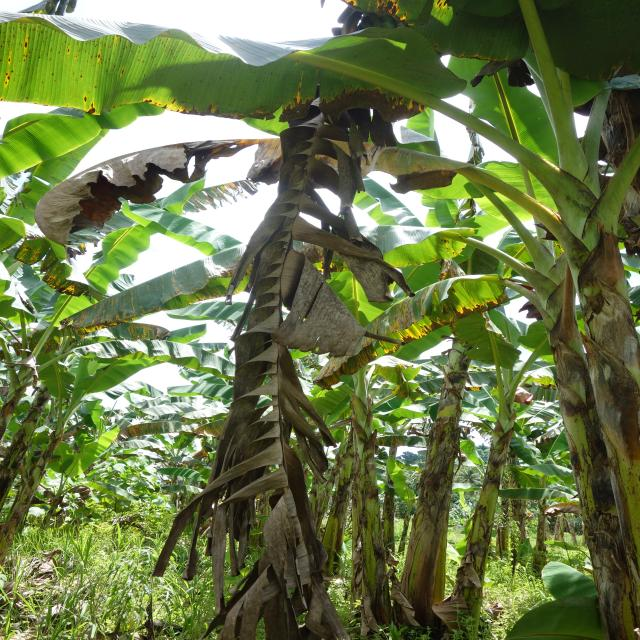Banana-plant: (502, 135, 639, 640), (537, 252, 639, 640), (394, 290, 468, 637), (448, 415, 539, 640), (332, 368, 392, 638)
